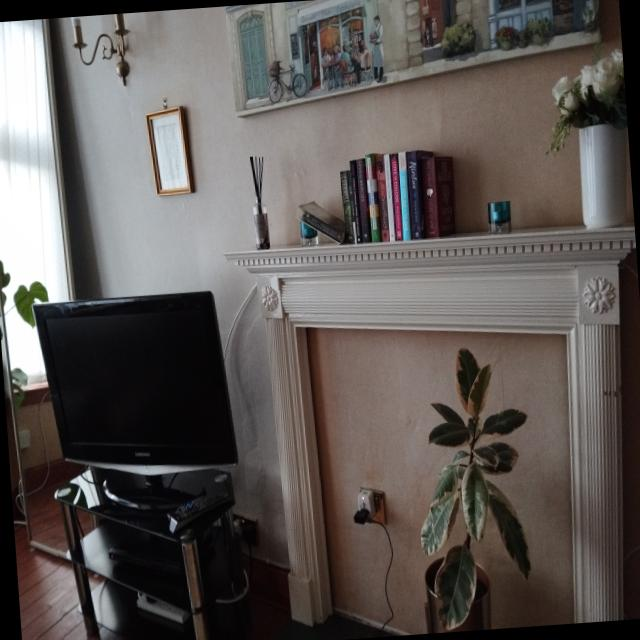book: (341, 153, 454, 243)
lamp: (72, 13, 131, 85)
monitor: (32, 291, 238, 510)
pillow: (228, 228, 635, 278)
stove: (54, 470, 248, 640)
